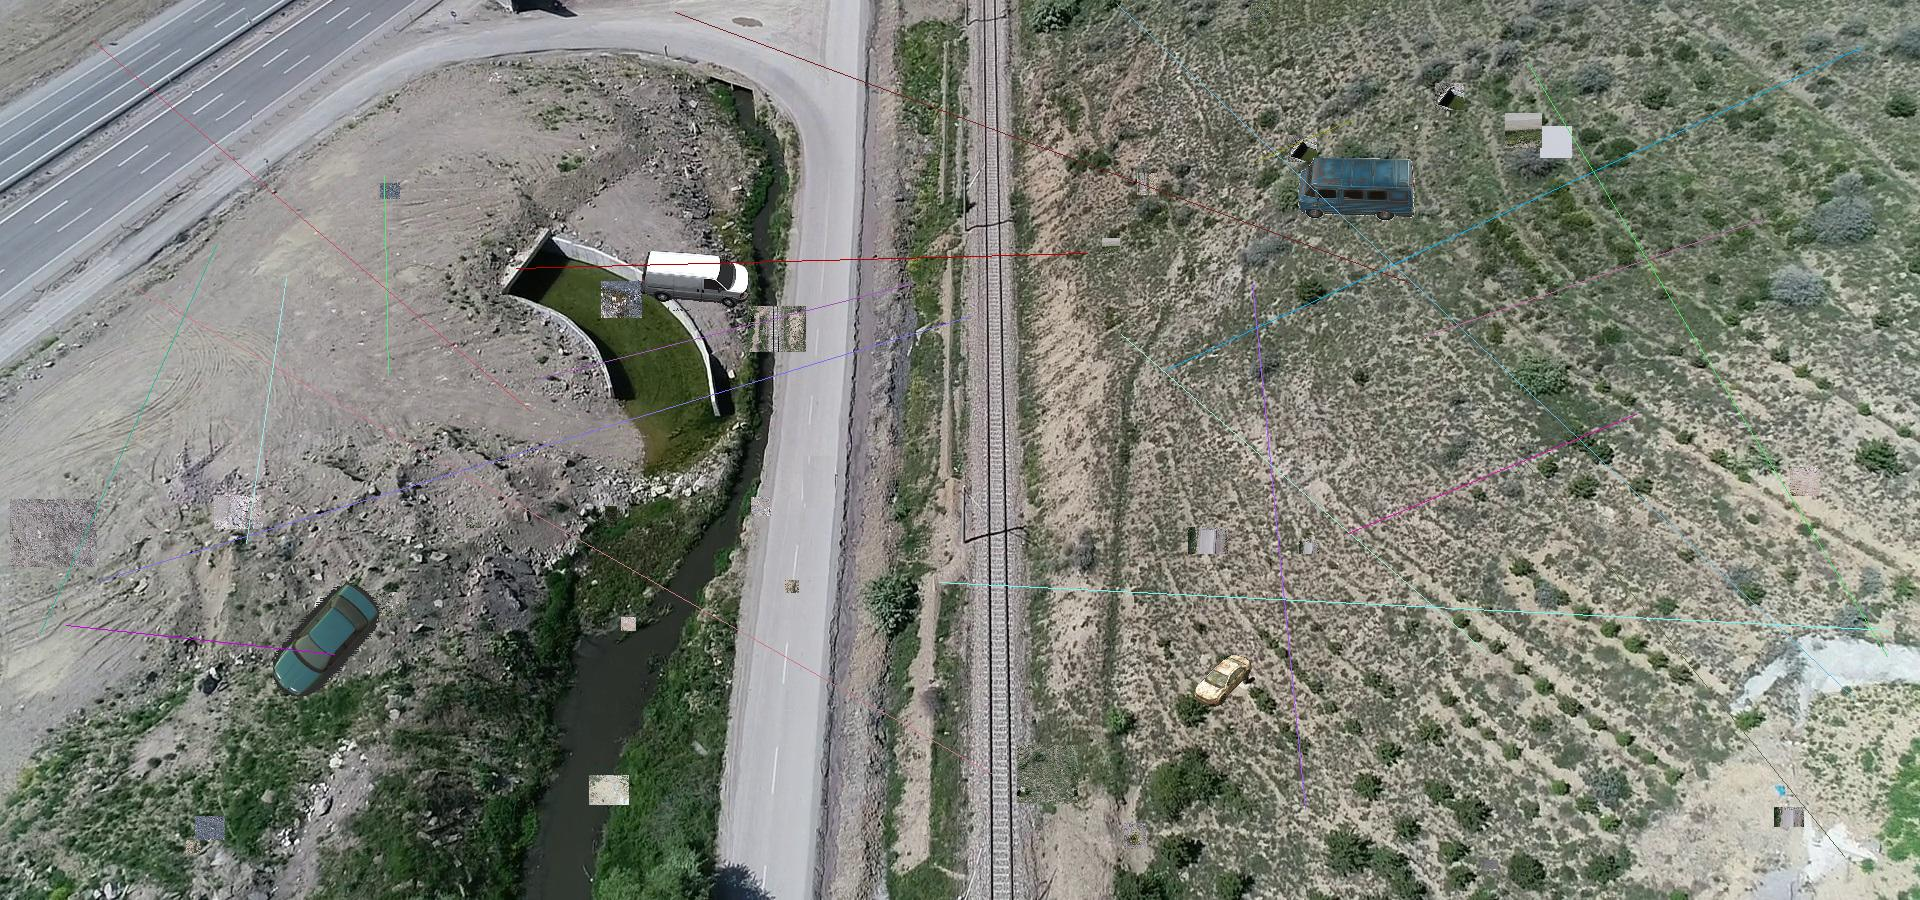arac: (273, 576, 381, 698), (1298, 158, 1416, 222), (636, 250, 754, 311), (1193, 654, 1258, 710)
